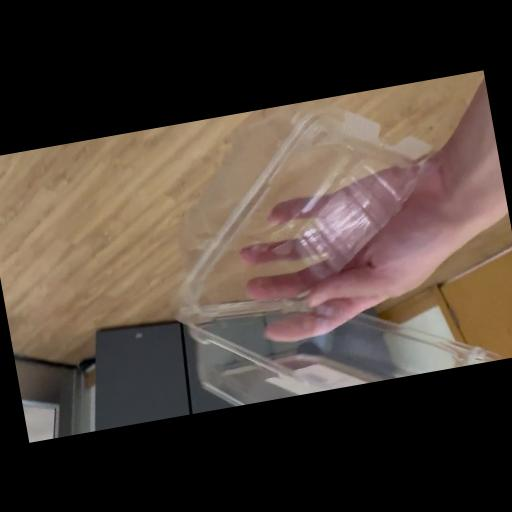small_plastic_container: (128, 72, 512, 416)
